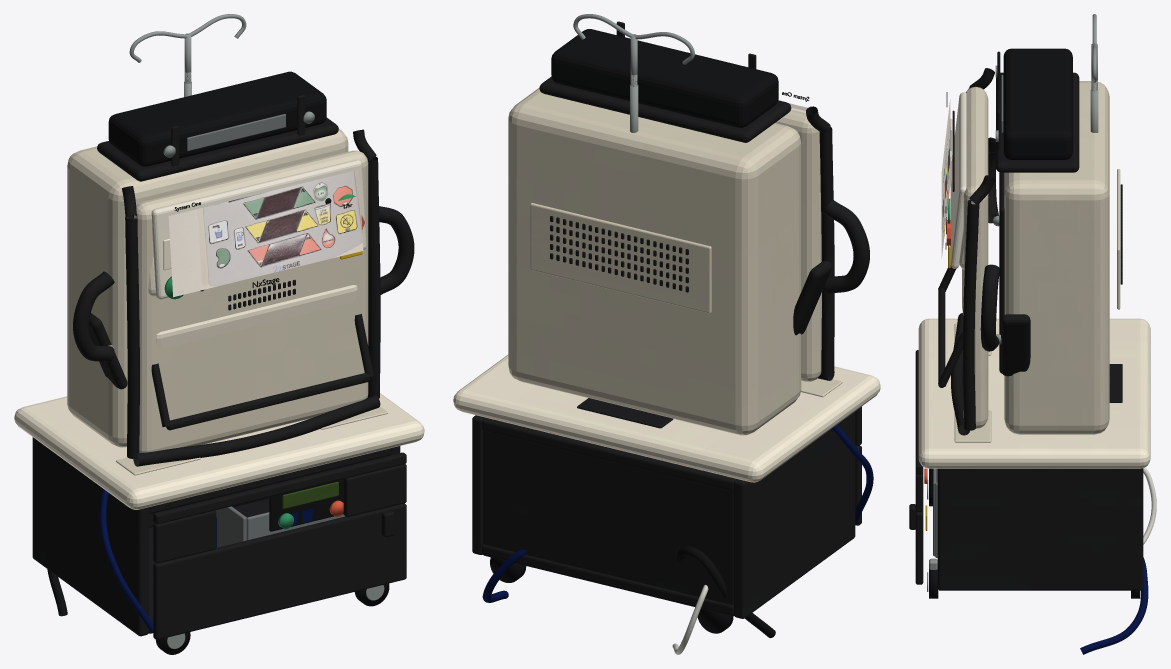
The model's file is nxstage-system-one.glb.
3 renders of one model, left to right at view 1: azimuth 30°, elevation 25°; view 2: azimuth 150°, elevation 25°; view 3: azimuth 270°, elevation 25°, orthographic. The views are drawn at different scales.
Visible parts, largest first — view 1: Cycler door front shell, Cabinet door lower panel, Upper machine shell, Upper white shelf, Photo-derived control fascia, Cabinet left wall, Upper accessory soft case, System One control fascia, Front lower molded section, Upper accessory platform, Front black safety crossbar, Cabinet door upper rail (+17 smaller); view 2: Upper machine shell, Cabinet rear wall, Upper white shelf, Cabinet left wall, Upper accessory soft case, Rear upper vent frame, Cycler door front shell, Upper accessory platform, Cabinet top, Vertical black side rail, Cabinet floor, Left side carry handle (+7 smaller); view 3: Upper machine shell, Cabinet right wall, Upper white shelf, Upper accessory soft case, Cycler door front shell, Vertical black side rail.001, Upper accessory platform, System One control fascia, Side pivot plate.001, Right side carry handle, Front black safety crossbar, Cycler chamber backing (+12 smaller).
Part boxes in pixels (left/top/right/bottom): Cycler door front shell: left=134, top=150, right=368, bottom=453; Cabinet door lower panel: left=153, top=503, right=406, bottom=639; Upper machine shell: left=67, top=129, right=348, bottom=447; Upper white shelf: left=14, top=393, right=424, bottom=509; Photo-derived control fascia: left=168, top=169, right=363, bottom=297; Cabinet left wall: left=32, top=437, right=148, bottom=636; Upper accessory soft case: left=108, top=71, right=326, bottom=166; System One control fascia: left=151, top=160, right=366, bottom=299; Front lower molded section: left=156, top=285, right=357, bottom=349; Upper accessory platform: left=97, top=117, right=338, bottom=181; Front black safety crossbar: left=133, top=396, right=380, bottom=466; Cabinet door upper rail: left=153, top=452, right=406, bottom=524; Upper machine shell: left=508, top=88, right=801, bottom=435; Cabinet rear wall: left=483, top=417, right=736, bottom=605; Upper white shelf: left=453, top=354, right=880, bottom=482; Cabinet left wall: left=734, top=411, right=855, bottom=618; Upper accessory soft case: left=551, top=29, right=778, bottom=127; Rear upper vent frame: left=530, top=203, right=711, bottom=313; Cycler door front shell: left=775, top=109, right=821, bottom=381; Upper accessory platform: left=539, top=76, right=791, bottom=142; Cabinet top: left=482, top=419, right=734, bottom=491; Vertical black side rail: left=819, top=127, right=834, bottom=377; Cabinet floor: left=482, top=544, right=734, bottom=616; Left side carry handle: left=823, top=200, right=869, bottom=293; Upper machine shell: left=1004, top=81, right=1109, bottom=434; Cabinet right wall: left=937, top=468, right=1143, bottom=590; Upper white shelf: left=918, top=318, right=1150, bottom=468; Upper accessory soft case: left=1003, top=48, right=1072, bottom=159; Cycler door front shell: left=963, top=86, right=988, bottom=428; Vertical black side rail.001: left=963, top=200, right=979, bottom=430; Upper accessory platform: left=996, top=72, right=1079, bottom=172; System One control fascia: left=950, top=92, right=966, bottom=268; Side pivot plate.001: left=1001, top=314, right=1030, bottom=376; Right side carry handle: left=980, top=264, right=999, bottom=351; Front black safety crossbar: left=951, top=313, right=969, bottom=435; Cycler chamber backing: left=999, top=172, right=1004, bottom=373.
Size of the model in its own units: 6.35 by 10.51 by 4.21.
16 materials, 16 textured.
